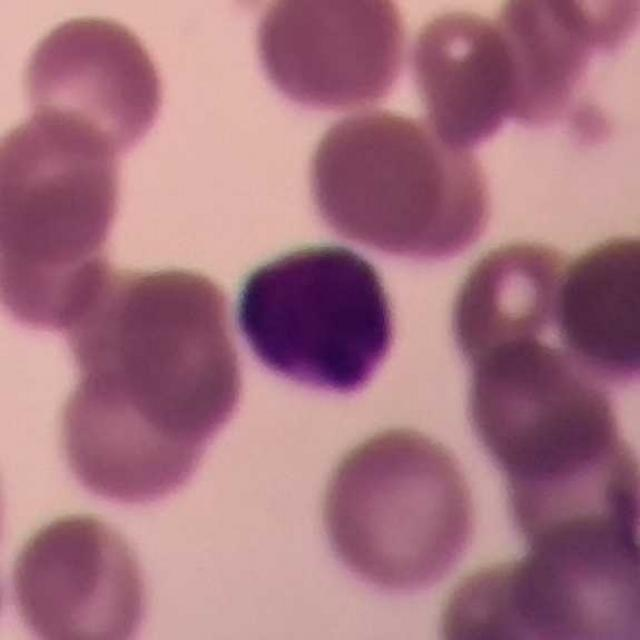Lymphocyte: (226, 235, 408, 408)
RBC: (311, 420, 485, 600), (49, 346, 229, 514), (441, 230, 611, 394), (103, 260, 250, 442), (297, 104, 460, 258), (457, 333, 619, 486), (15, 8, 172, 162), (495, 412, 640, 573), (0, 103, 129, 267), (4, 506, 160, 639), (247, 0, 413, 117), (402, 1, 528, 148), (504, 513, 640, 640), (431, 551, 623, 640), (0, 200, 118, 340), (550, 225, 640, 387), (514, 0, 640, 58)
